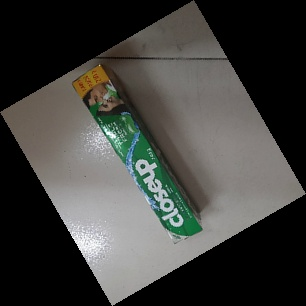CloseUp Xanh: (69, 64, 204, 246)
